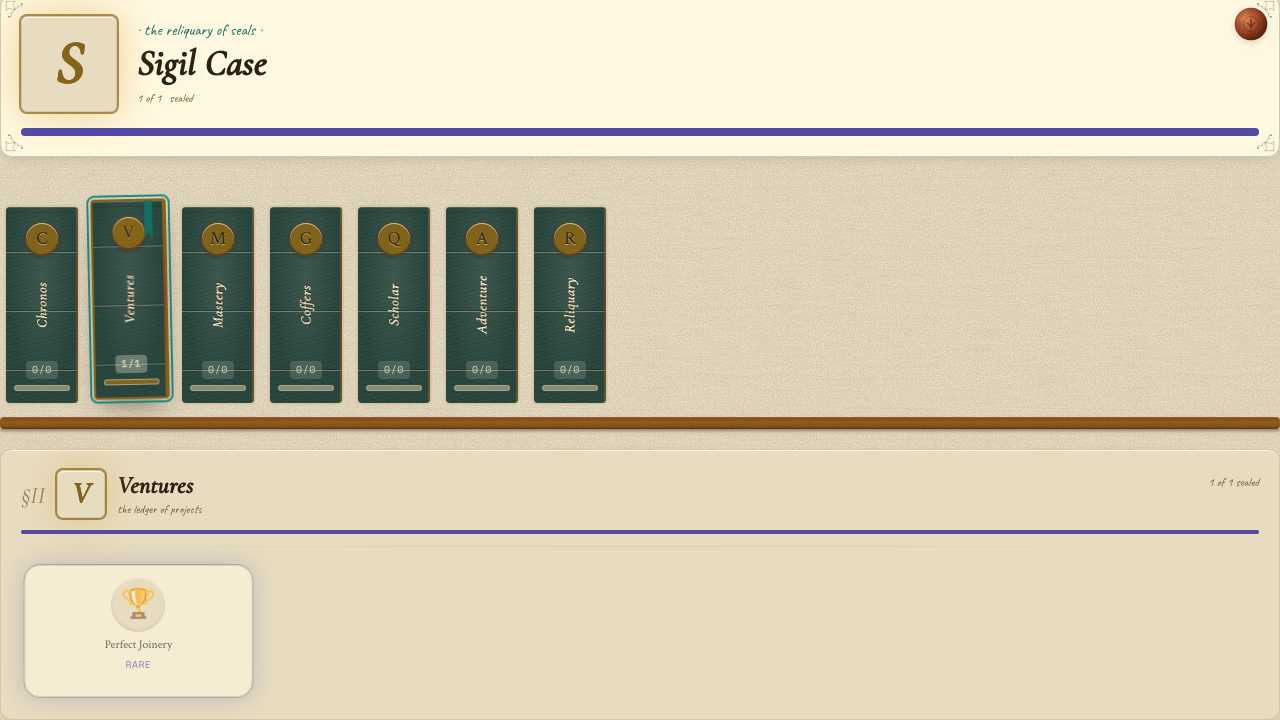
Test case: Badges page › opens a detail sheet when a sigil is clicked
The width and height of the screenshot is (1280, 720).
(page scrolled)
Click the button "🏆 Perfect Joinery rare" at (138, 631), box [24, 565, 252, 697]
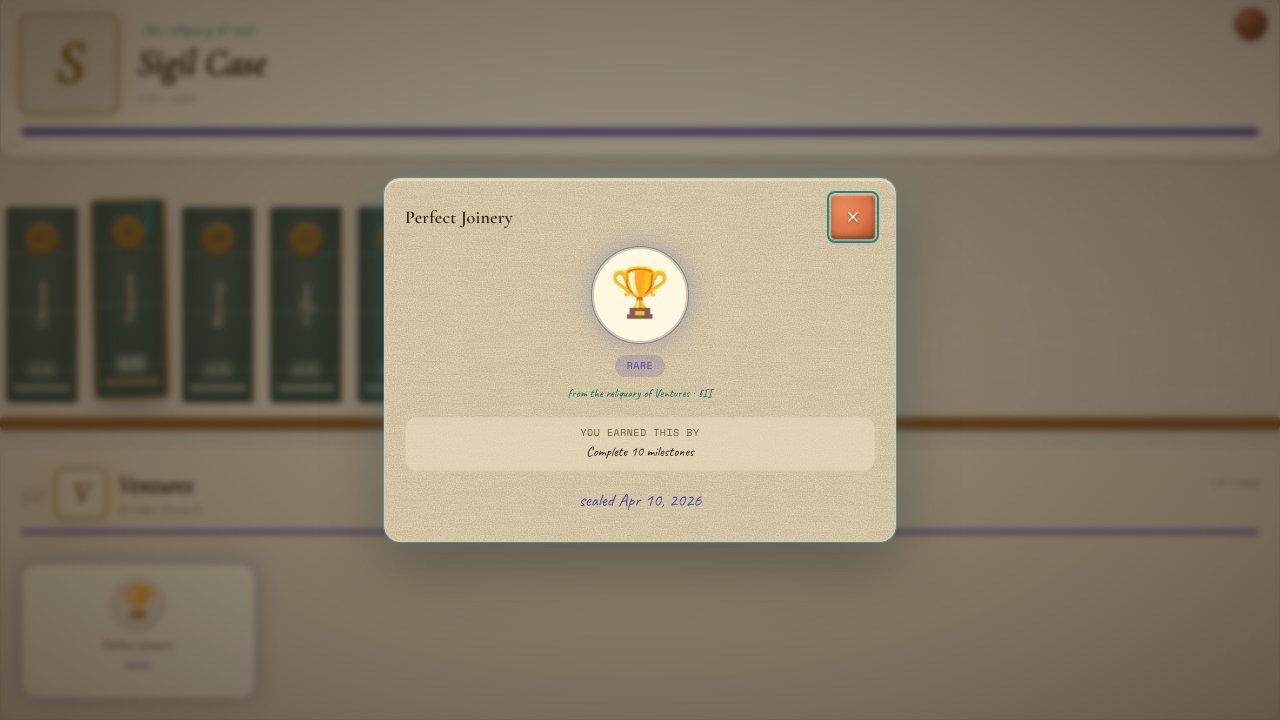
expect the dialog "Perfect Joinery" is shown: met, box [384, 178, 896, 542]
